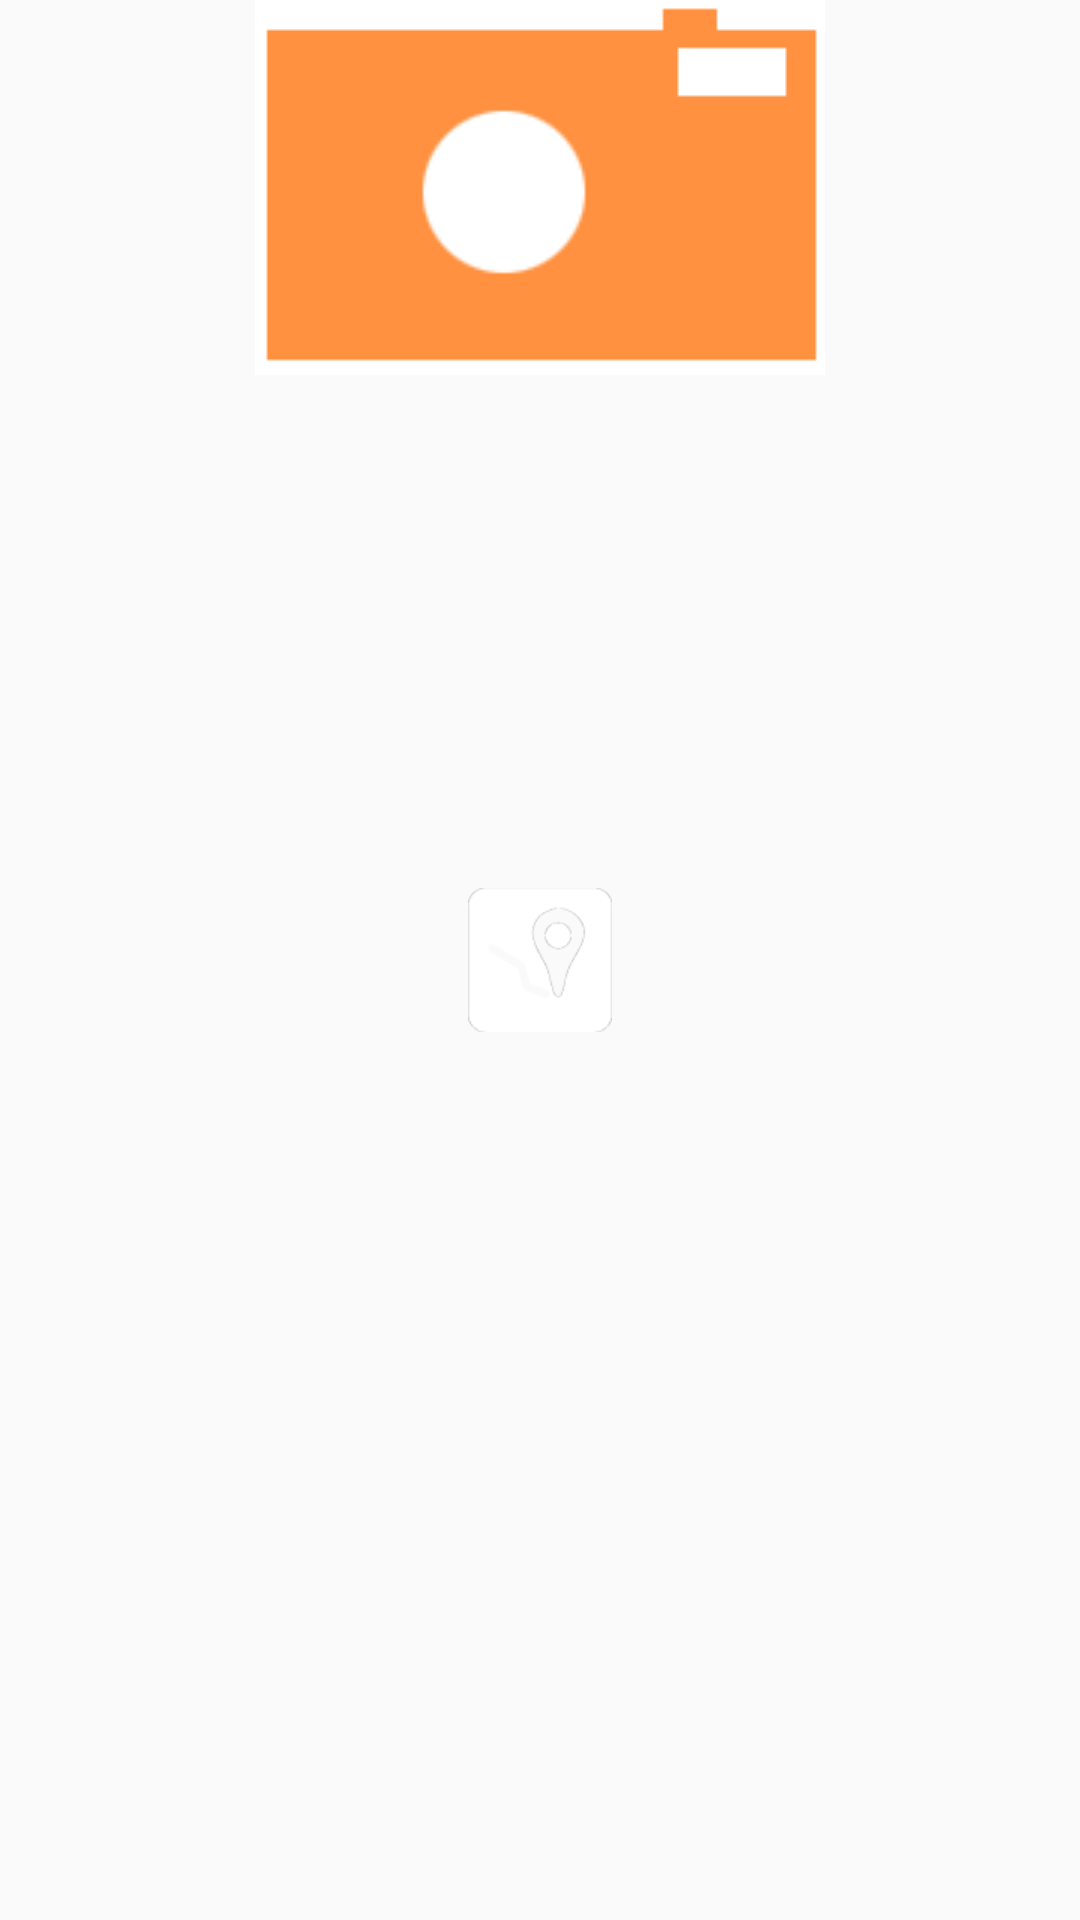

Where to tap for icons on this 1080×1920 app screen, as [x,y]:
map: [540,959]
